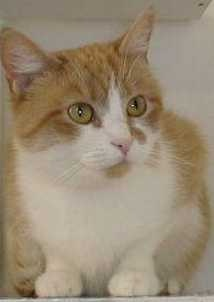Cat: (0, 11, 209, 296)
